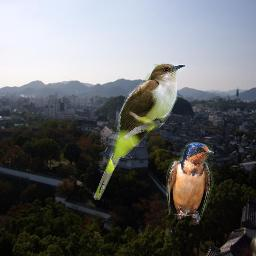Cuckoo: (93, 62, 186, 200)
Swallow: (166, 142, 214, 225)
